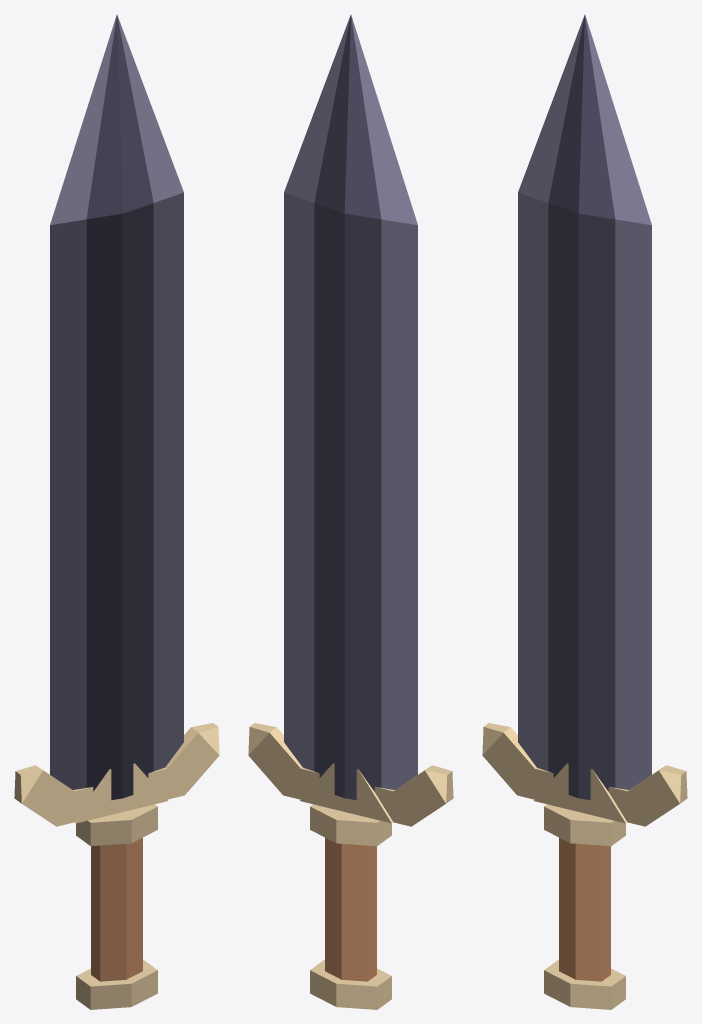
The model's file is Claymore.obj.
The picture shows the model from 3 angles, left to right: view 1: azimuth 30°, elevation 25°; view 2: azimuth 150°, elevation 25°; view 3: azimuth 330°, elevation 25°; orthographic projection.
Parts seen in each view (by area): view 1: blade_dual, hilt_handle, guard_detailed; view 2: blade_dual, hilt_handle, guard_detailed; view 3: blade_dual, hilt_handle, guard_detailed.
Part boxes in pixels (left/top/right/bottom): blade_dual: left=50, top=14, right=183, bottom=800; hilt_handle: left=76, top=804, right=157, bottom=1009; guard_detailed: left=14, top=723, right=219, bottom=826; blade_dual: left=284, top=14, right=417, bottom=800; hilt_handle: left=310, top=804, right=391, bottom=1009; guard_detailed: left=248, top=723, right=453, bottom=826; blade_dual: left=518, top=14, right=651, bottom=800; hilt_handle: left=544, top=804, right=625, bottom=1009; guard_detailed: left=482, top=723, right=687, bottom=826.
Bounding box in the file's own units: 1.72 × 8.19 × 0.44.
